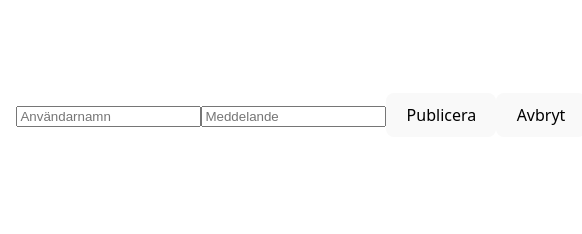
Test: MessageForm › US1: Post message › should clear errors when user starts typing
Click the button "Publicera". click: (441,115)
box: [386, 93, 496, 137]
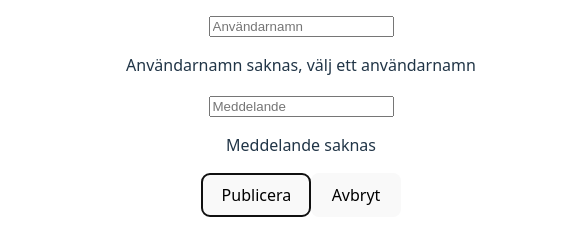
Expected: the text "Meddelande saknas" is shown, [226, 134, 376, 156]
Type "hej" into the field with placeholder "Meddelande". click: (301,107)
box: [208, 96, 394, 117]
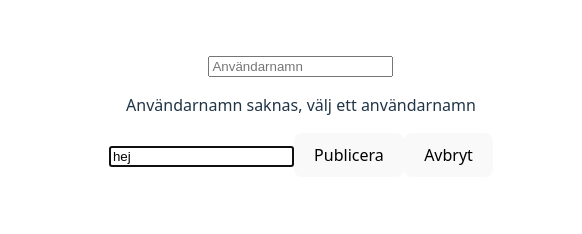
Expected: the text "Meddelande saknas" is gone
